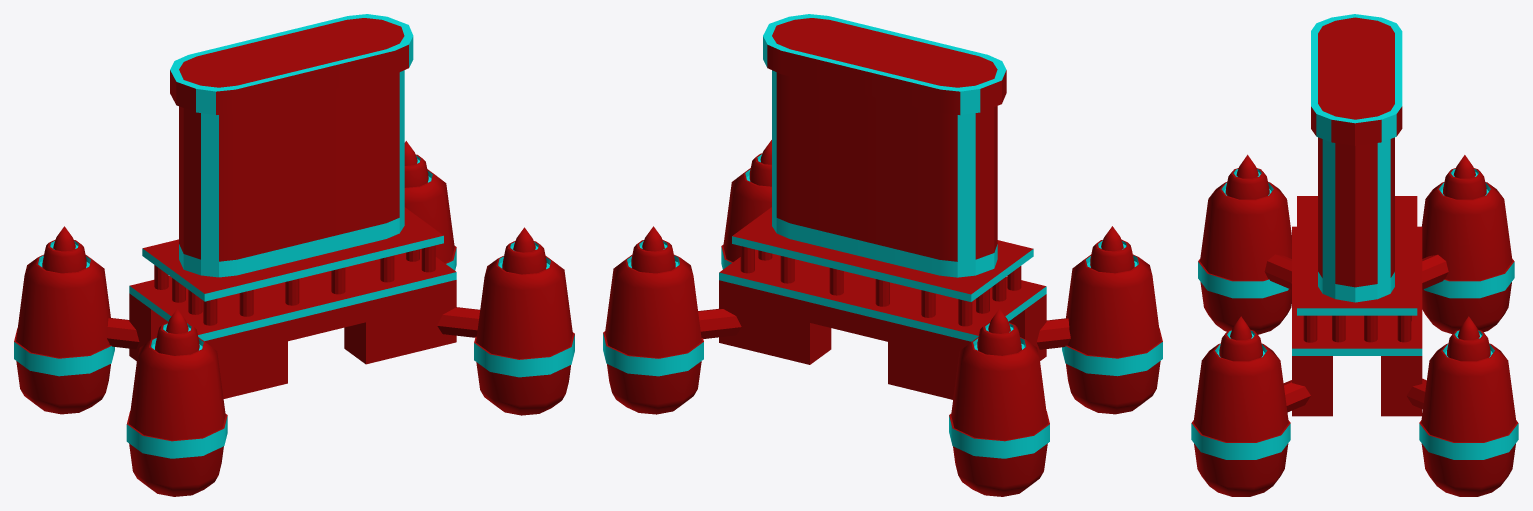
File: GJ_Envrio_Kit_Buildings_HL_31-07-2019_v5.fbx
The picture shows the model from 3 angles, left to right: view 1: azimuth 30°, elevation 25°; view 2: azimuth 150°, elevation 25°; view 3: azimuth 270°, elevation 25°; orthographic projection. The views are drawn at different scales.
Visible parts, largest first — view 1: Building_5_Cylinder_and_cube_tower; view 2: Building_5_Cylinder_and_cube_tower; view 3: Building_5_Cylinder_and_cube_tower.
Boxes of the visible parts, x1,y1,x2,y2 form: Building_5_Cylinder_and_cube_tower: (14, 14, 574, 496); Building_5_Cylinder_and_cube_tower: (603, 14, 1162, 496); Building_5_Cylinder_and_cube_tower: (1191, 14, 1518, 496).
Size of the model in its own units: 2143 by 1691 by 1470.
